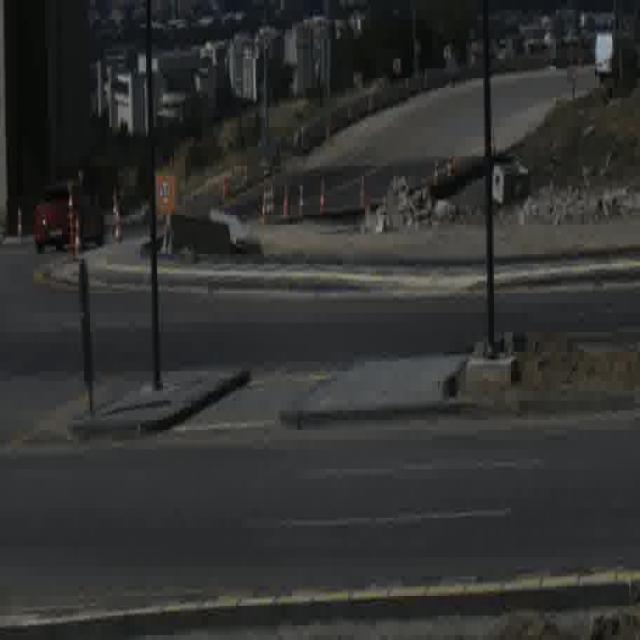Car: (34, 179, 104, 256), (593, 31, 631, 83)
